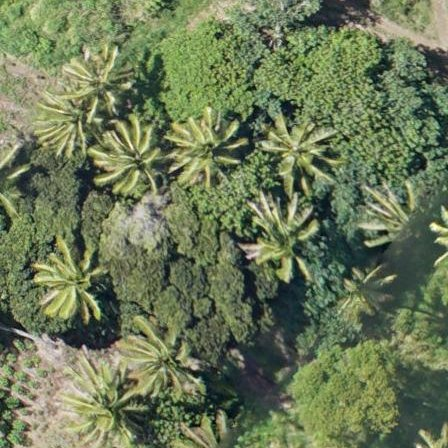palm_tree: (53, 353, 144, 448), (58, 39, 137, 123), (118, 319, 198, 399), (260, 111, 336, 195), (32, 244, 109, 322), (94, 117, 168, 196), (246, 201, 320, 277), (172, 112, 242, 187), (32, 92, 98, 159), (362, 179, 426, 245), (337, 265, 396, 321)
